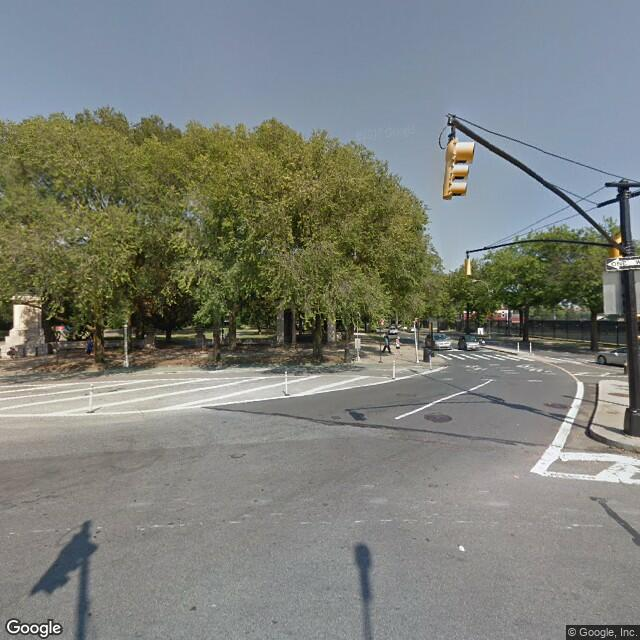litter: (460, 544, 466, 552)
